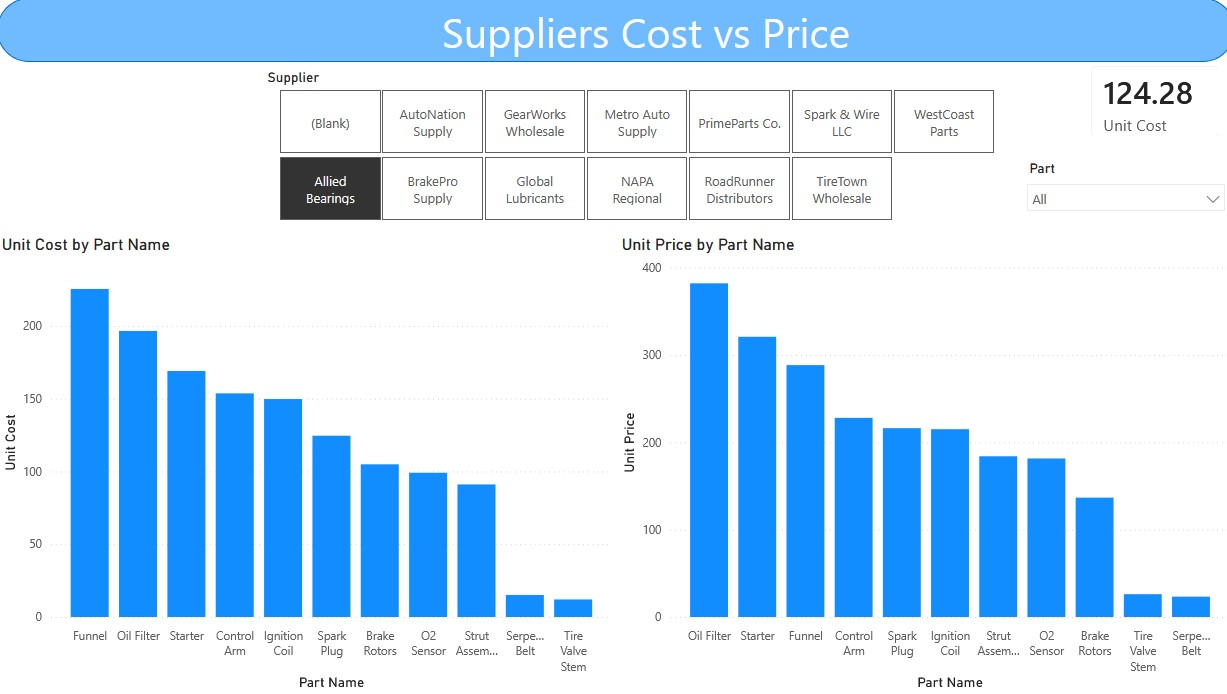

What the dashboard file says about the page in this screenshot:
{"tool":"powerbi","page":{"name":"Suppliers Cost Vs Price","canvas":[1280,720],"ordinal":4},"visuals":[{"type":"columnChart","fields":{"Category":["Parts.part_name"],"Y":["Avg(Parts.unit_cost)"]},"box":[0,245.7,640.6,474.3],"z":0},{"type":"slicer","fields":{"Values":["Suppliers.supplier_name"]},"box":[266.5,66.1,788,170.1],"z":1},{"type":"columnChart","fields":{"Category":["Parts.part_name"],"Y":["Avg(Parts.unit_price)"]},"box":[640.6,245.7,638.7,474.3],"z":2},{"type":"cardVisual","fields":{"Data":["Avg(Parts.unit_cost)"]},"box":[1113.1,52.9,166.3,107.7],"z":4},{"type":"slicer","fields":{"Values":["Parts.part_name"]},"box":[1054.5,160.6,224.9,75.6],"z":5},{"type":"shape","box":[0,0,1279.4,66.1],"z":6},{"type":"textbox","box":[173.9,0,994,66.1],"z":7}]}

Visuals, with their boxes in screenshot pixels (x1, y1, x2, y2), scaled from the page's 1280x720 canvas onto the 1227x694 screenshot:
columnChart - Parts.part_name x Avg(Parts.unit_cost): select_region(0, 237, 614, 693)
slicer - Suppliers.supplier_name: select_region(255, 64, 1011, 228)
columnChart - Parts.part_name x Avg(Parts.unit_price): select_region(614, 237, 1226, 693)
cardVisual - Avg(Parts.unit_cost): select_region(1067, 51, 1226, 155)
slicer - Parts.part_name: select_region(1011, 155, 1226, 228)
shape: select_region(0, 0, 1226, 64)
textbox: select_region(167, 0, 1120, 64)
